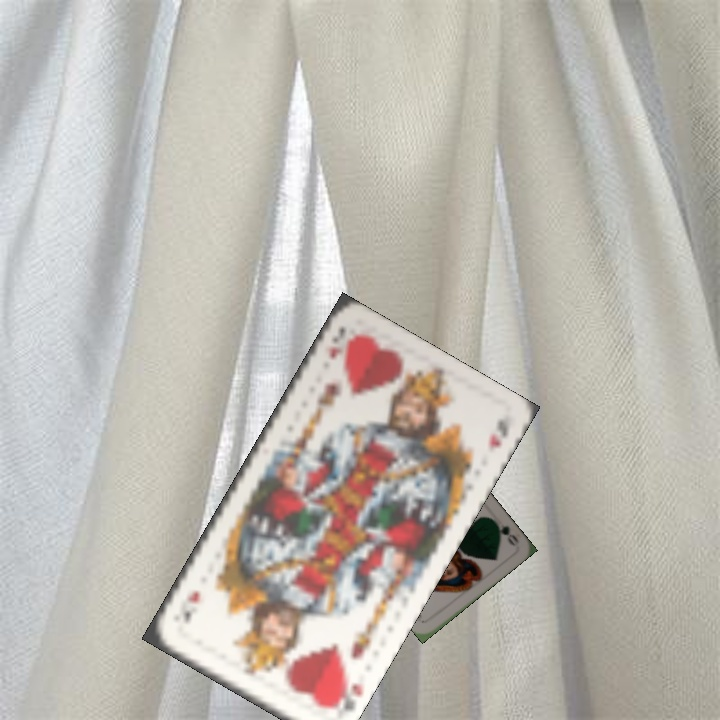GO: (486, 511, 521, 548)
HK: (324, 670, 365, 713), (324, 321, 349, 362)
